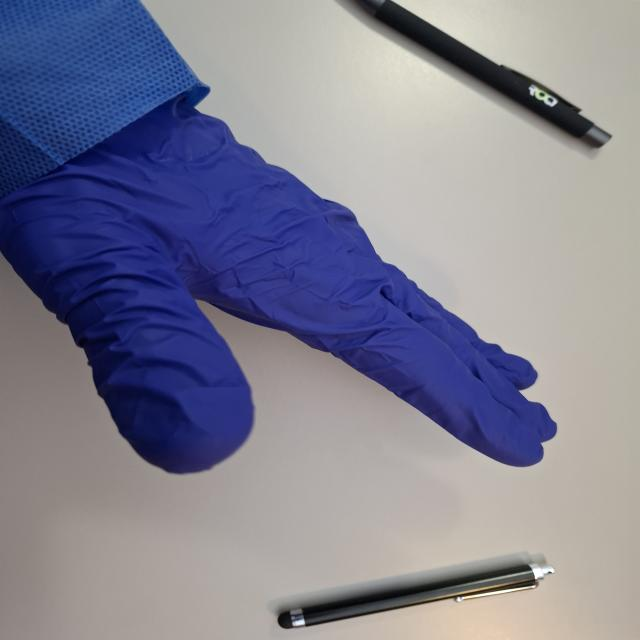glove_on: (0, 80, 562, 472)
